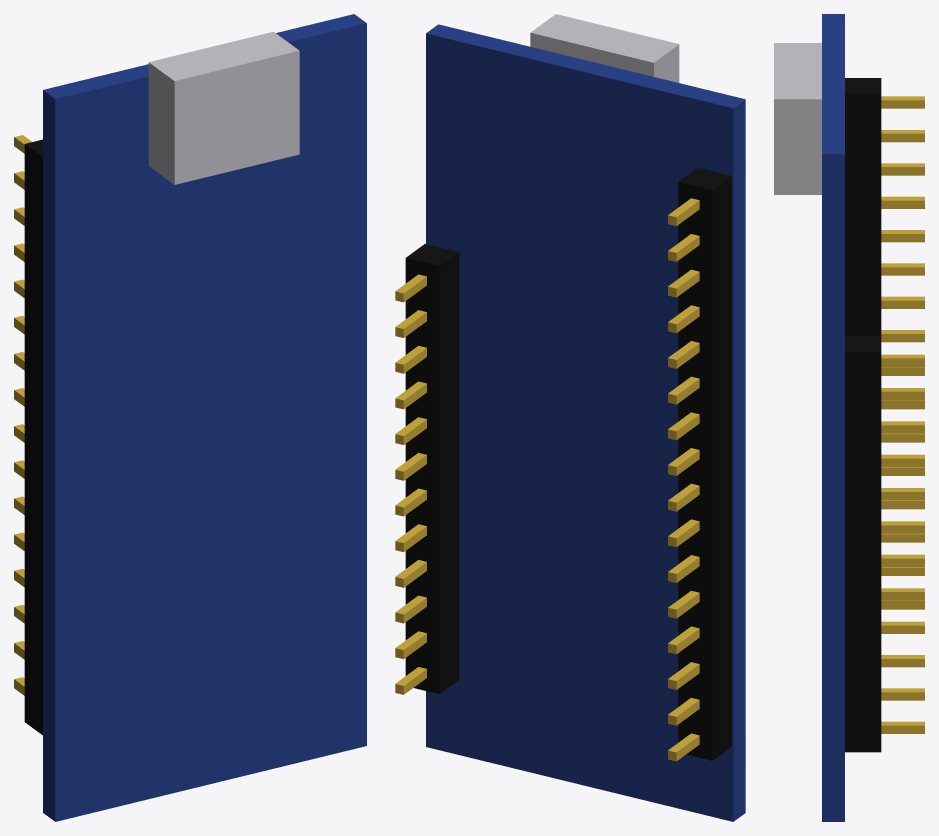
File: mod-feather.glb
The picture shows the model from 3 angles, left to right: view 1: azimuth 30°, elevation 25°; view 2: azimuth 150°, elevation 25°; view 3: azimuth 270°, elevation 25°; orthographic projection. The views are drawn at different scales.
Visible parts, largest first — view 1: PCB-MCU, MET-PORT, HEADER; view 2: PCB-MCU, HEADER, MET-PORT; view 3: HEADER, PCB-MCU, MET-PIN (×28), MET-PORT.
Part boxes in pixels (box(x1,y1,x2,y2)): PCB-MCU: box(43, 14, 366, 821); MET-PORT: box(148, 31, 299, 184); HEADER: box(24, 139, 42, 735); PCB-MCU: box(426, 24, 745, 821); HEADER: box(405, 167, 731, 760); MET-PORT: box(530, 14, 679, 82); HEADER: box(845, 78, 881, 752); PCB-MCU: box(822, 14, 844, 821); MET-PIN (×28): box(881, 96, 924, 733); MET-PORT: box(774, 43, 821, 194).
Size of the model in its own units: 22.97 by 51.8 by 10.4.
